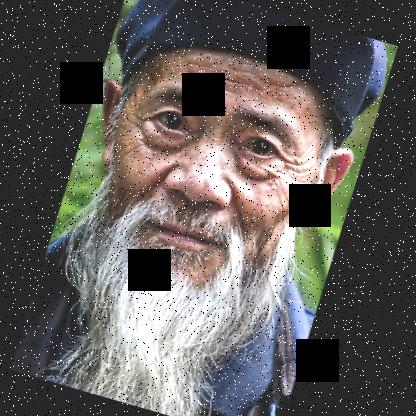Male: (49, 22, 373, 331)
